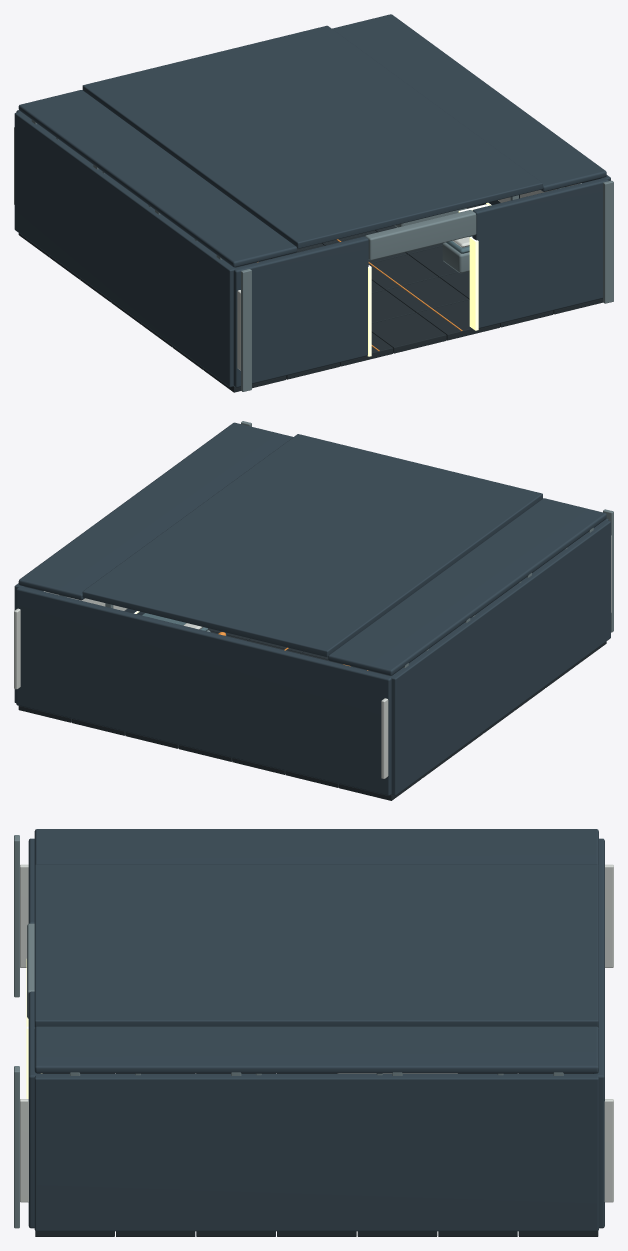
Rendered from quarters_room.glb.
3 views of the same model, one above another, from view 1: azimuth 30°, elevation 25°; view 2: azimuth 150°, elevation 25°; view 3: azimuth 270°, elevation 25° (orthographic). The views are drawn at different scales.
Visible parts, largest first — view 1: quarters_room; view 2: quarters_room; view 3: quarters_room.
Boxes of the visible parts, x1=… form: quarters_room: x1=14, y1=14, x2=613, y2=392; quarters_room: x1=14, y1=421, x2=613, y2=800; quarters_room: x1=14, y1=829, x2=613, y2=1236.
Bounding box in the file's own units: 14.3 × 4.82 × 14.89.
